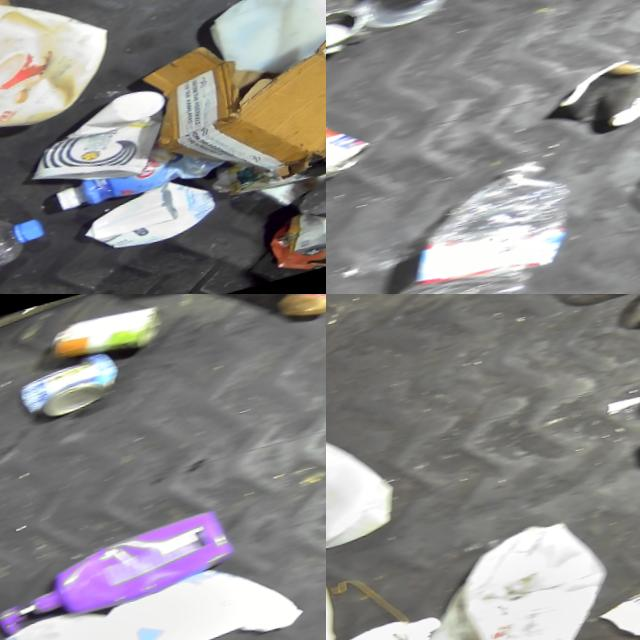can: (12, 348, 132, 423), (326, 0, 449, 72), (54, 302, 162, 369), (326, 110, 381, 200)
milk_jug: (408, 512, 638, 640), (326, 410, 407, 567), (211, 0, 326, 89), (0, 595, 174, 640)
non_white_jug: (0, 509, 234, 640), (0, 0, 132, 166)
plastic_bottle: (378, 155, 603, 294), (0, 213, 61, 294)
